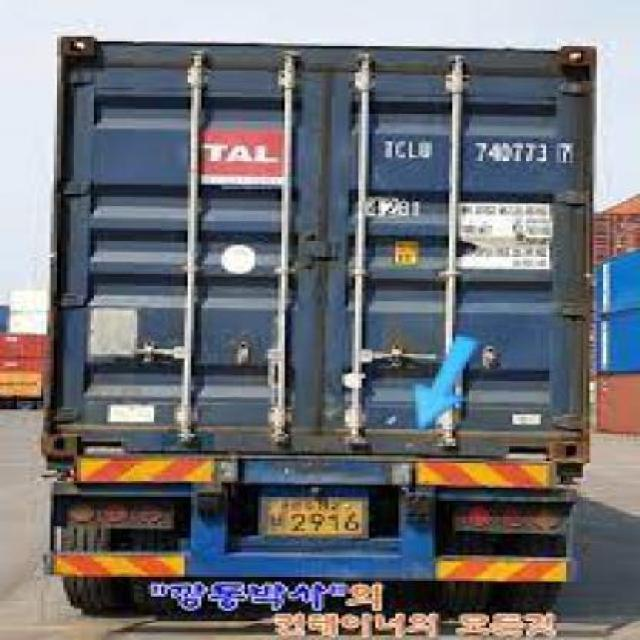ISO: (360, 189, 420, 224)
container_number: (380, 128, 580, 172)
